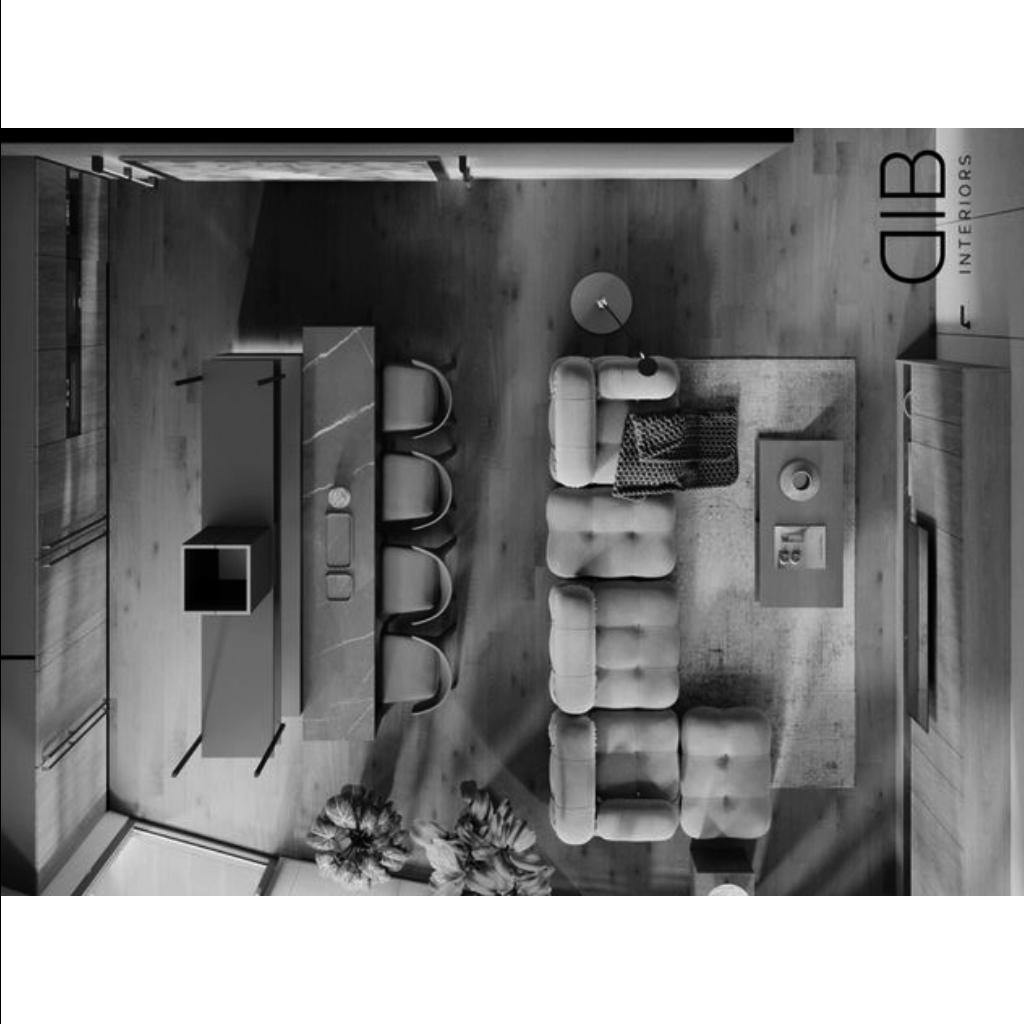TV stand: (900, 363, 1018, 891)
chair: (382, 536, 458, 624), (381, 632, 457, 714), (380, 446, 456, 528), (380, 354, 454, 434)
coffee table: (759, 436, 845, 606)
dining table: (192, 324, 376, 766)
floor lamp: (567, 275, 633, 335)
floor plant: (314, 785, 400, 885), (447, 789, 527, 885)
modular kitchen: (3, 156, 101, 894)
ottoman: (683, 709, 769, 837)
rug: (626, 358, 854, 790)
side table: (698, 848, 754, 894)
sofa: (547, 358, 679, 840)
window: (113, 875, 269, 893)
